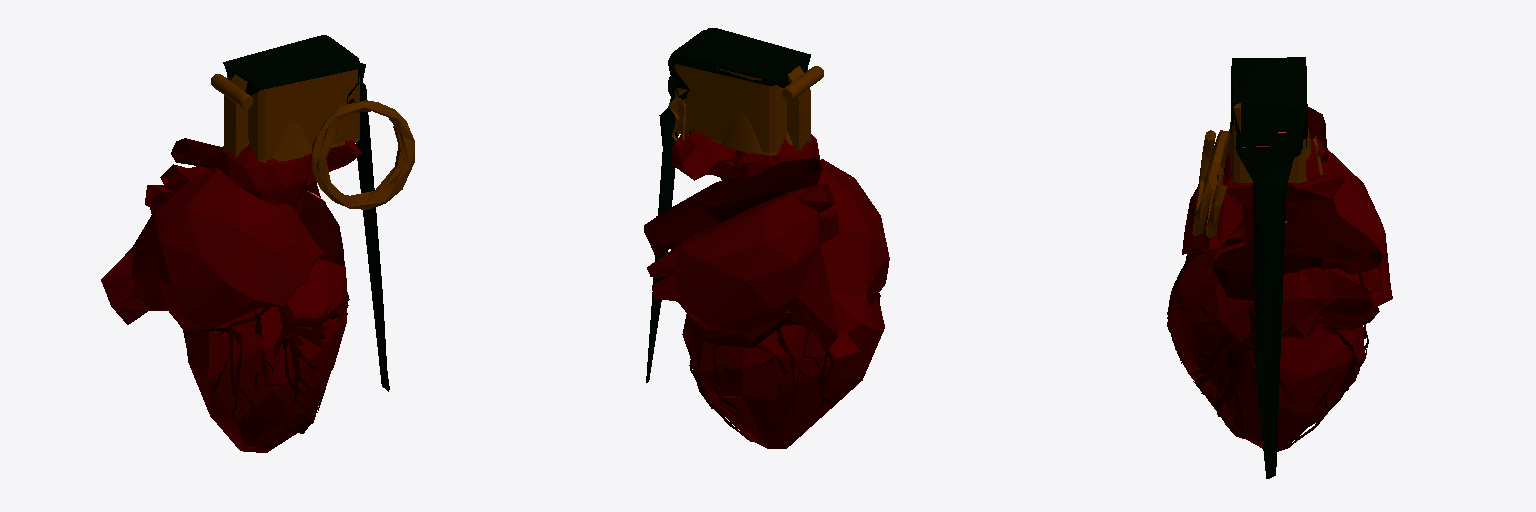
The model's file is heartbomb_c.obj.
3 views of the same model, side by side, from view 1: azimuth 30°, elevation 25°; view 2: azimuth 150°, elevation 25°; view 3: azimuth 270°, elevation 25° (orthographic).
Size of the model in its own units: 3.12 by 4.49 by 2.38.